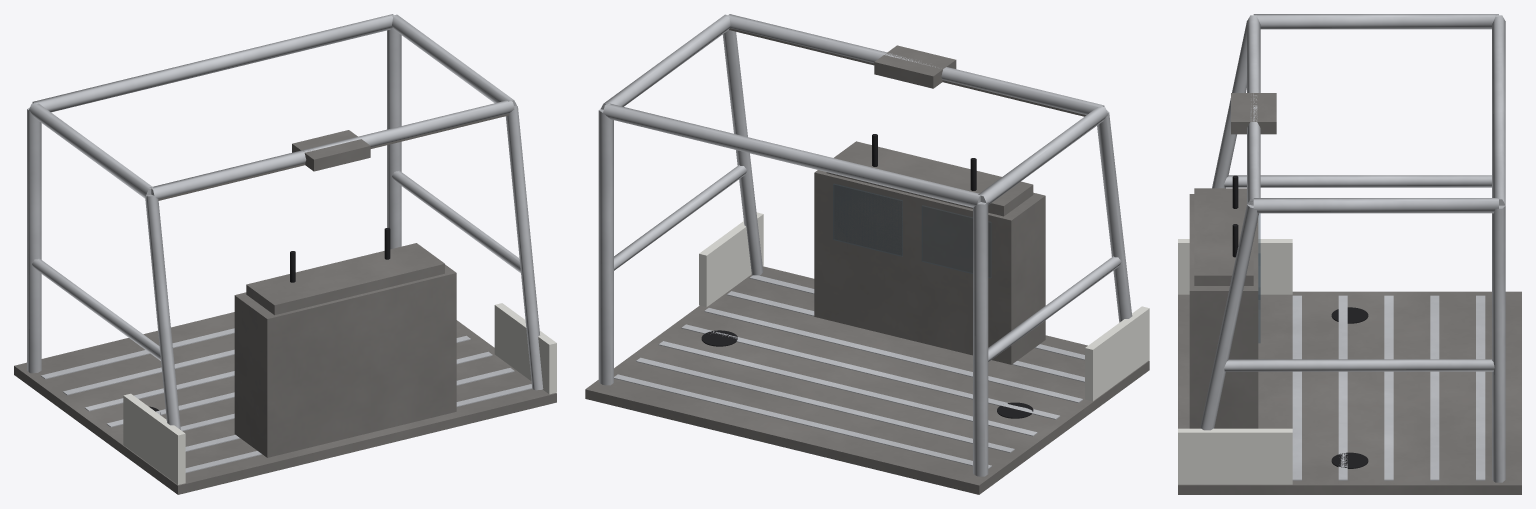
Rendered from rover23_open_cab.glb.
The picture shows the model from 3 angles, left to right: view 1: azimuth 30°, elevation 25°; view 2: azimuth 150°, elevation 25°; view 3: azimuth 270°, elevation 25°; orthographic projection. The views are drawn at different scales.
Parts seen in each view (by area): view 1: console, roll_cage, floor_pan, fenders, tread_plate, mast_plate; view 2: floor_pan, console, roll_cage, tread_plate, displays, fenders, mast_plate, seat_sockets; view 3: floor_pan, roll_cage, console, fenders, tread_plate, mast_plate, seat_sockets, t_handles, displays.
Part boxes in pixels (x1,y1,x2,y2): console: [234, 243, 456, 457]; roll_cage: [27, 14, 543, 429]; floor_pan: [14, 312, 556, 494]; fenders: [123, 303, 556, 484]; tread_plate: [41, 328, 531, 472]; mast_plate: [158, 113, 508, 200]; floor_pan: [585, 266, 1149, 494]; console: [814, 141, 1045, 364]; roll_cage: [598, 14, 1132, 476]; tread_plate: [614, 275, 1084, 468]; displays: [833, 183, 991, 278]; fenders: [699, 212, 1149, 401]; mast_plate: [729, 28, 1086, 116]; seat_sockets: [701, 330, 1033, 418]; floor_pan: [1178, 291, 1521, 494]; roll_cage: [1200, 14, 1505, 482]; console: [1189, 188, 1258, 428]; fenders: [1178, 239, 1292, 484]; tread_plate: [1292, 295, 1485, 480]; mast_plate: [1231, 93, 1276, 203]; seat_sockets: [1331, 307, 1368, 468]; t_handles: [1232, 175, 1238, 257]; displays: [1258, 213, 1260, 343].
Size of the model in its own units: 2 by 1.4 by 1.5.
Materials: 5 (2 with a texture image).
